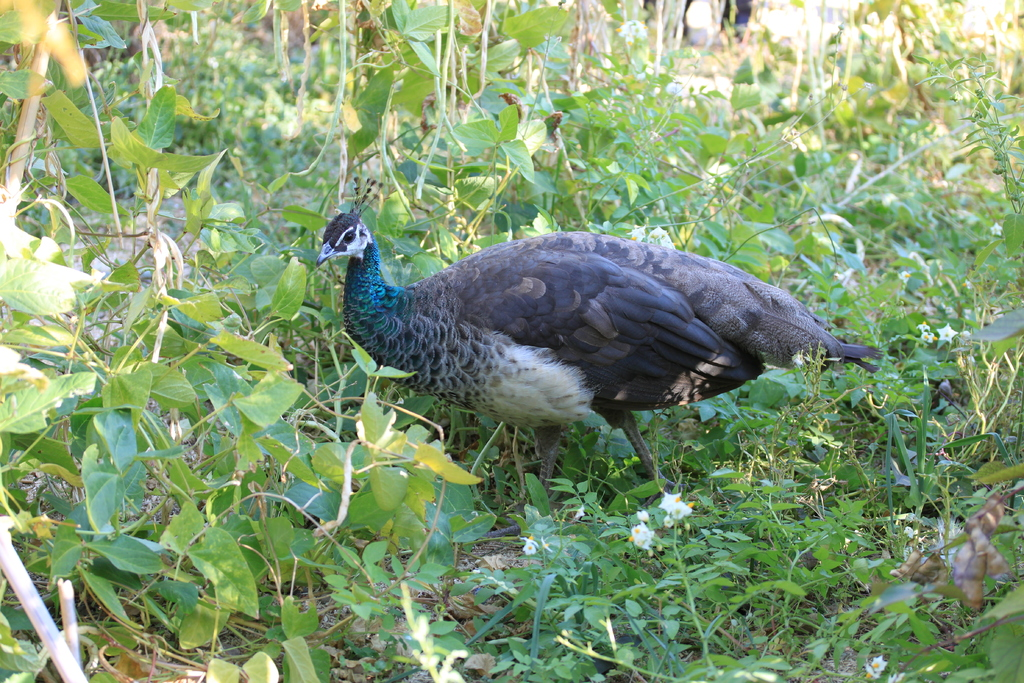Bird: (316, 177, 885, 538)
